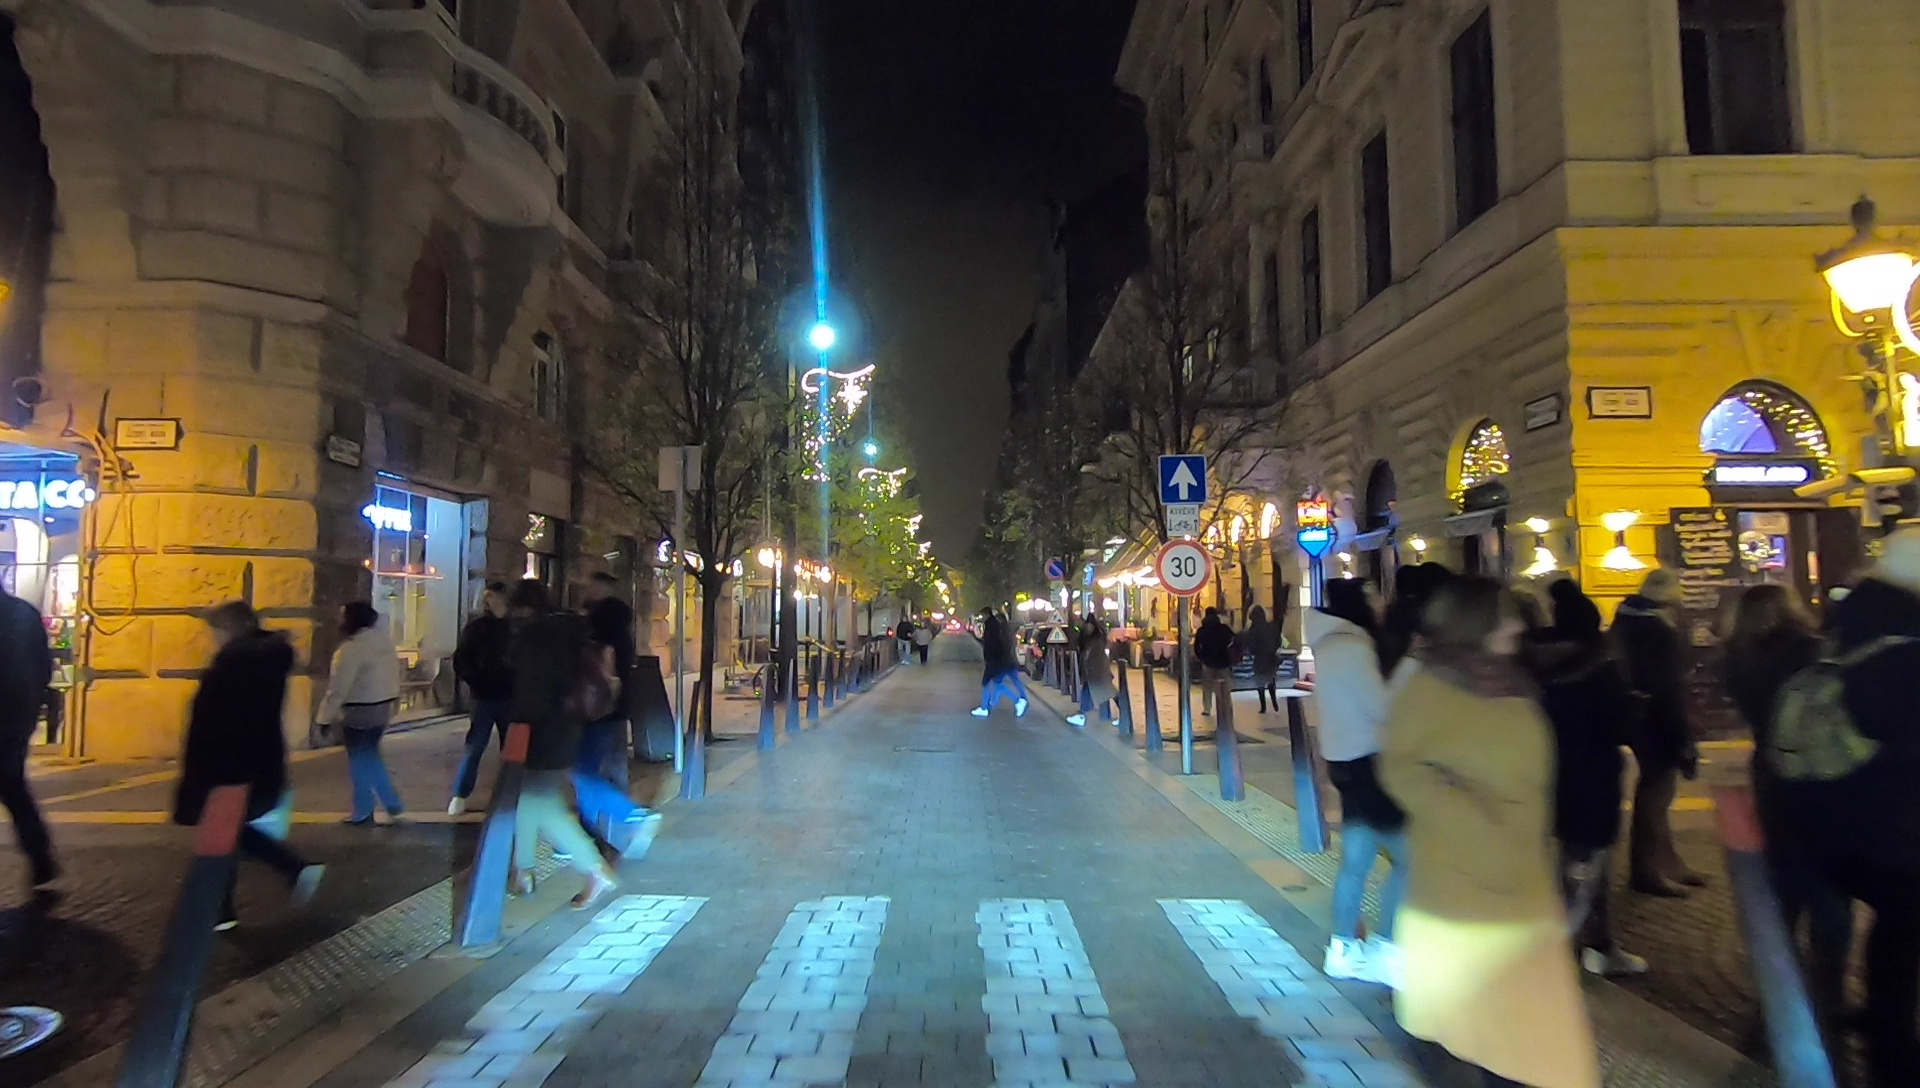person: (1406, 574, 1581, 1088), (1728, 578, 1856, 1004), (160, 611, 299, 915), (1323, 582, 1421, 978), (1615, 571, 1712, 893), (508, 599, 602, 921), (562, 584, 662, 854), (1551, 578, 1610, 974), (1, 569, 71, 893), (314, 595, 406, 828), (458, 584, 526, 828), (973, 608, 1026, 723), (1195, 606, 1226, 715), (1249, 615, 1278, 710), (915, 623, 932, 663), (893, 621, 910, 658)
